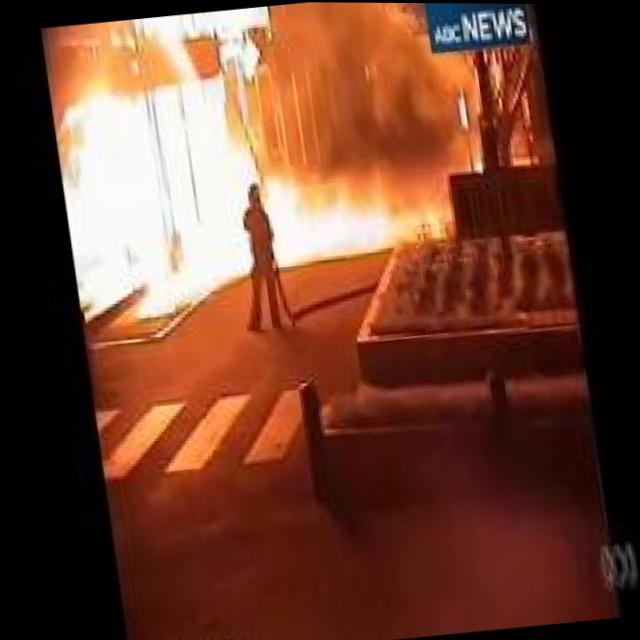fire: (42, 0, 442, 323)
